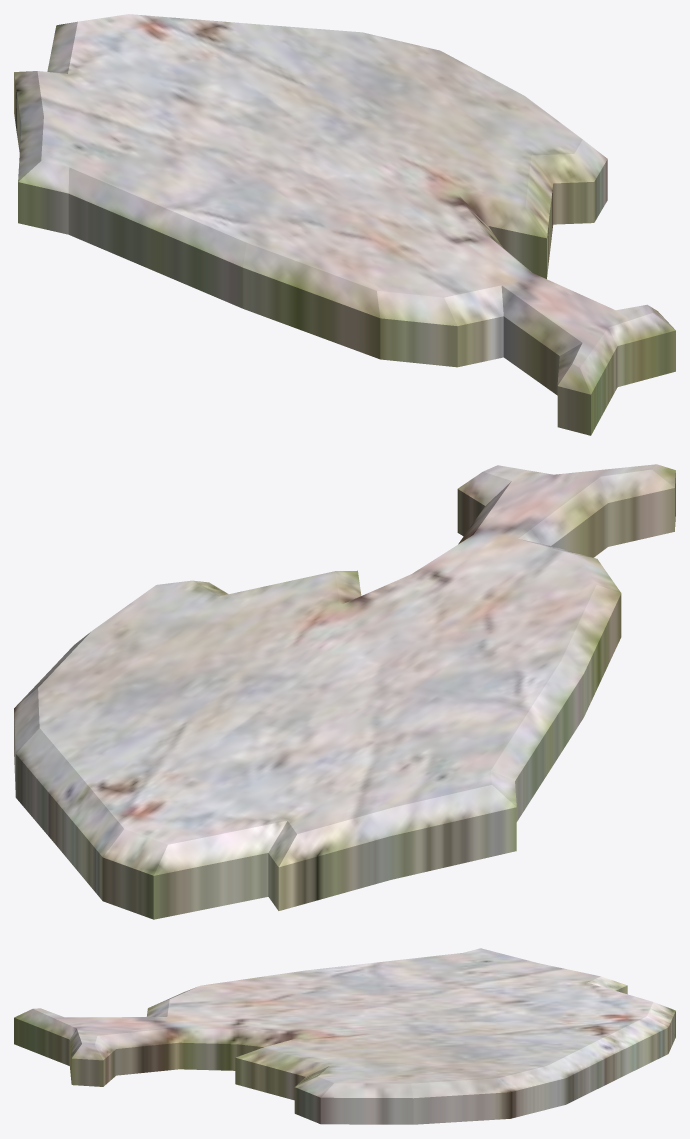
Rendered from stone.12.fbx.
3 renders of one model, top to bottom at view 1: azimuth 30°, elevation 25°; view 2: azimuth 150°, elevation 25°; view 3: azimuth 270°, elevation 25°, orthographic. The views are drawn at different scales.
Parts seen in each view (by area): view 1: stone.12; view 2: stone.12; view 3: stone.12.
Part boxes in pixels (x1=…): stone.12: x1=14, y1=14, x2=675, y2=435; stone.12: x1=14, y1=464, x2=675, y2=919; stone.12: x1=14, y1=948, x2=675, y2=1124.
Bounding box in the file's own units: 84.22 × 9.74 × 160.
Materials: 1 (1 with a texture image).
